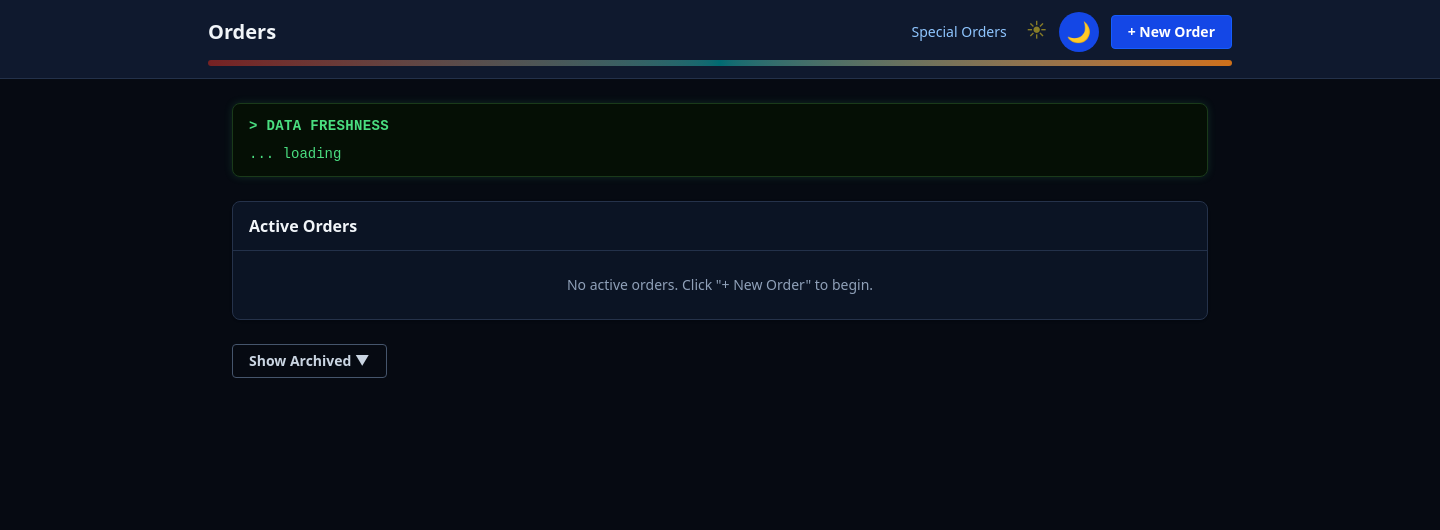
Test case: Dashboard — archive lifecycle › toggles to show archived orders section
The width and height of the screenshot is (1440, 530).
Click the button "Show Archived ▼": [309, 361] box [232,344,386,378]
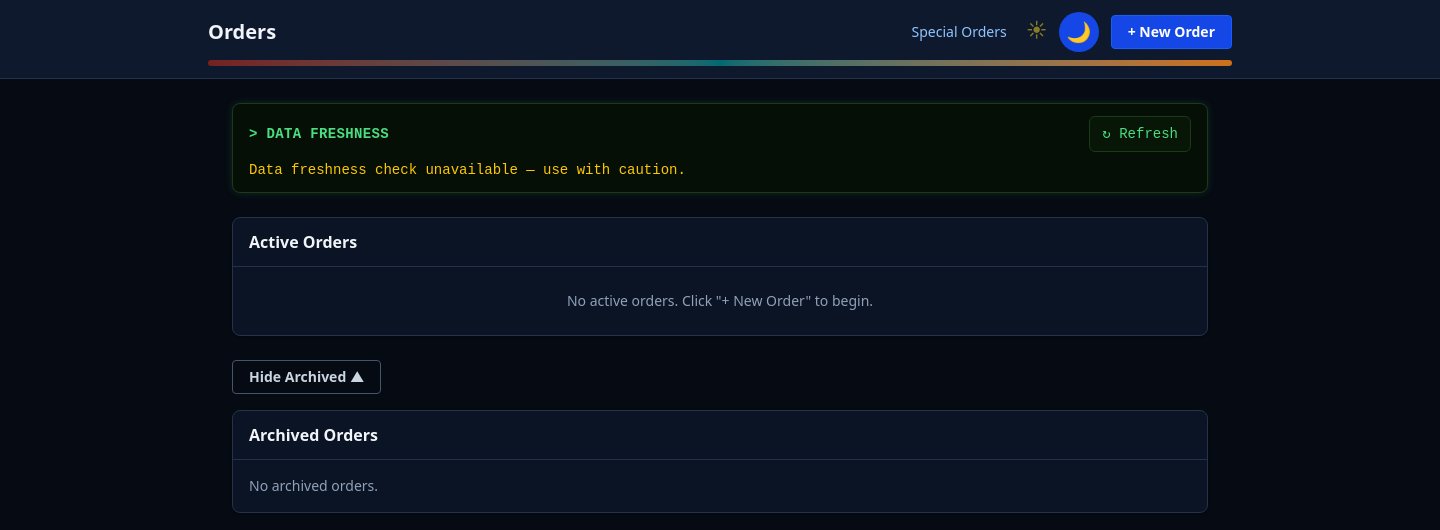
Expected: the text "Archived Orders" is shown, [233,411,1207,460]
